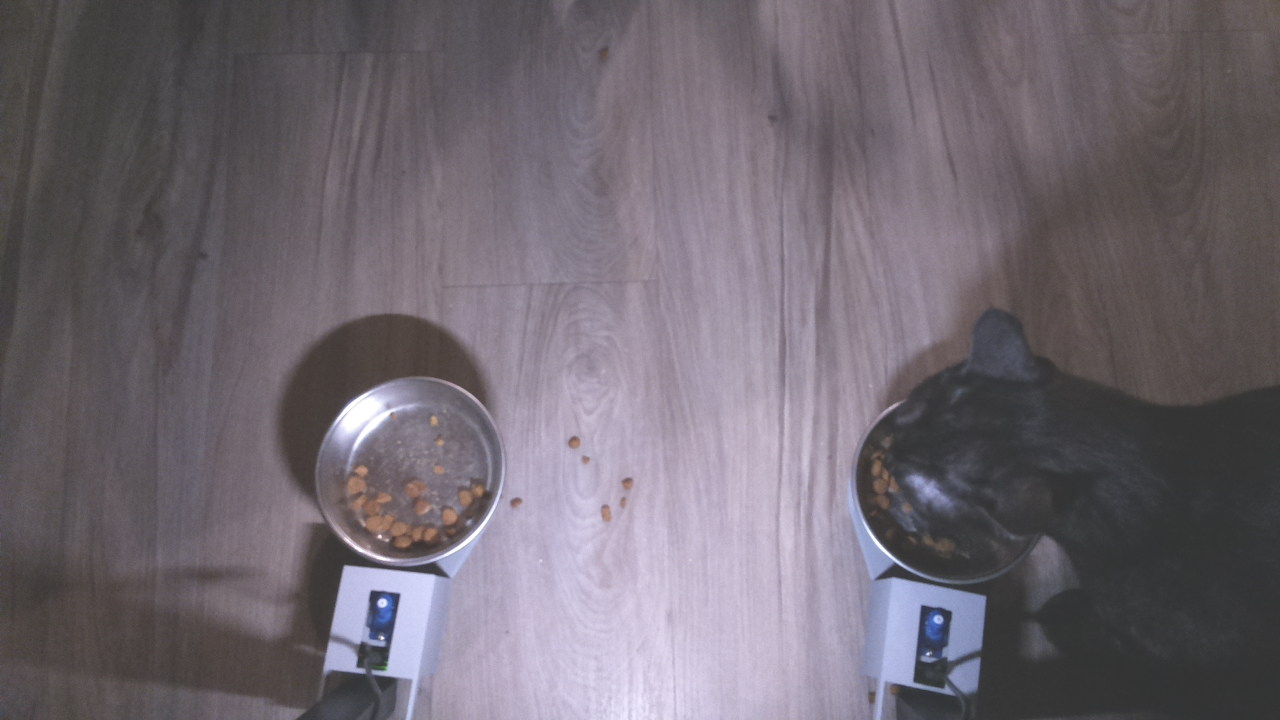open_bowl: (309, 368, 507, 571)
saki_eating: (841, 298, 1095, 593)
